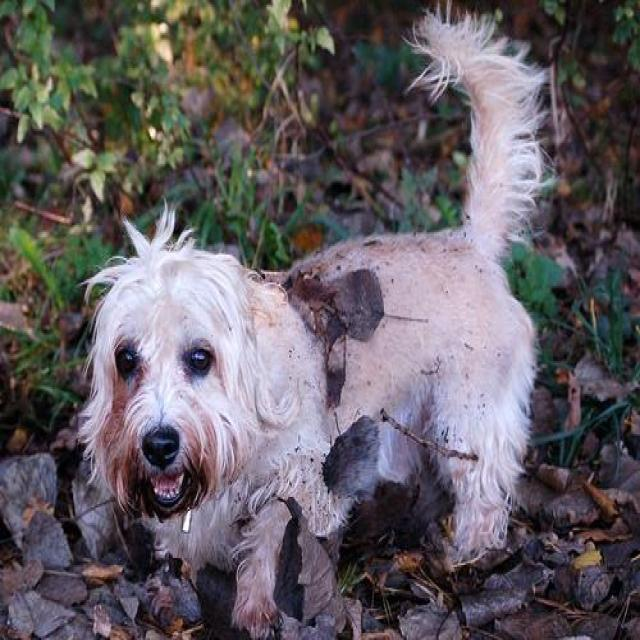dandie_dinmont: (65, 5, 543, 637)
